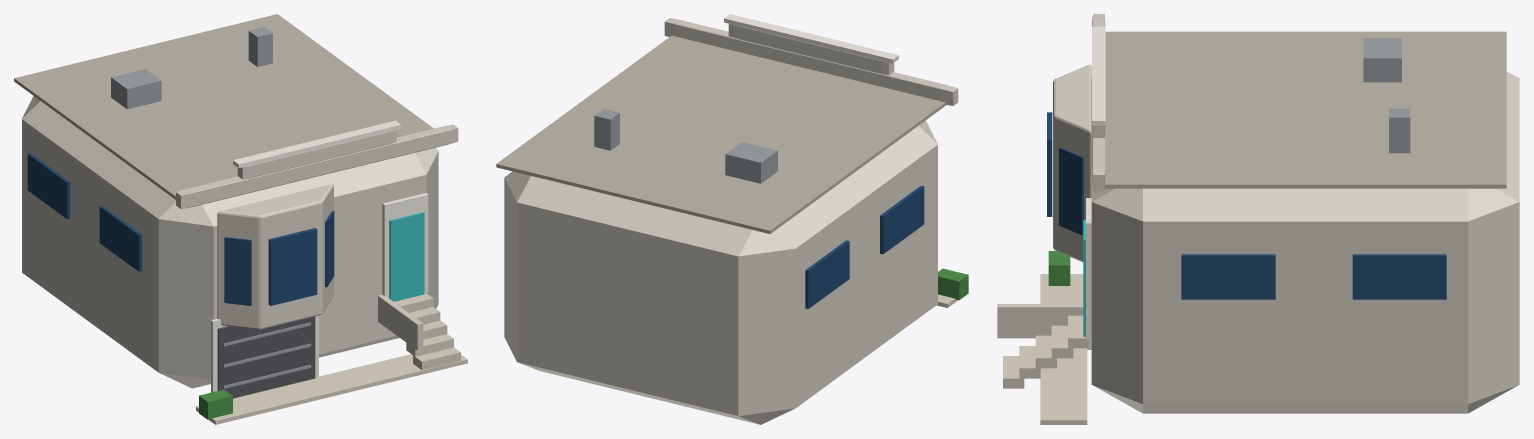
The model's file is sunset_w9_stepped_bay.glb.
3 views of the same model, side by side, from view 1: azimuth 30°, elevation 25°; view 2: azimuth 150°, elevation 25°; view 3: azimuth 270°, elevation 25° (orthographic). The views are drawn at different scales.
Visible parts, largest first — view 1: walls, roofslab, bay, gdoor, pp1, patio, bw, door, pp2, dfr, bwa, sb.002 (+11 smaller); view 2: walls, roofslab, pp1, pp2, sb, sb.002, pcap, hvac, pipe, hedge; view 3: walls, roofslab, bay, sb.001, sb.003, patio, srail, bwa.001, hvac, pcap, pipe, pp1 (+8 smaller).
Boxes of the visible parts, x1,y1,x2,y2 form: walls: [22, 96, 438, 388]; roofslab: [14, 14, 433, 199]; bay: [217, 184, 333, 329]; gdoor: [217, 316, 315, 398]; pp1: [176, 124, 458, 208]; patio: [196, 354, 467, 424]; bw: [268, 228, 317, 305]; door: [389, 212, 424, 301]; pp2: [237, 130, 396, 179]; dfr: [382, 193, 428, 297]; bwa: [224, 237, 251, 305]; sb.002: [27, 153, 70, 219]; walls: [504, 120, 937, 424]; roofslab: [496, 35, 945, 233]; pp1: [664, 18, 958, 105]; pp2: [728, 23, 894, 75]; sb: [880, 185, 924, 254]; sb.002: [805, 240, 849, 308]; pcap: [724, 14, 898, 63]; hvac: [725, 142, 777, 183]; pipe: [594, 109, 619, 150]; hedge: [938, 268, 968, 300]; walls: [1091, 71, 1519, 413]; roofslab: [1105, 31, 1506, 188]; bay: [1053, 64, 1091, 261]; sb.001: [1181, 254, 1275, 299]; sb.003: [1352, 254, 1446, 299]; patio: [1040, 274, 1087, 424]; srail: [997, 304, 1083, 338]; bwa.001: [1059, 147, 1083, 235]; hvac: [1363, 38, 1401, 82]; pcap: [1092, 26, 1105, 125]; pipe: [1389, 108, 1410, 153]; pp1: [1092, 14, 1105, 191].
Bounding box in the file's own units: 9.2 × 7.2 × 12.2.
